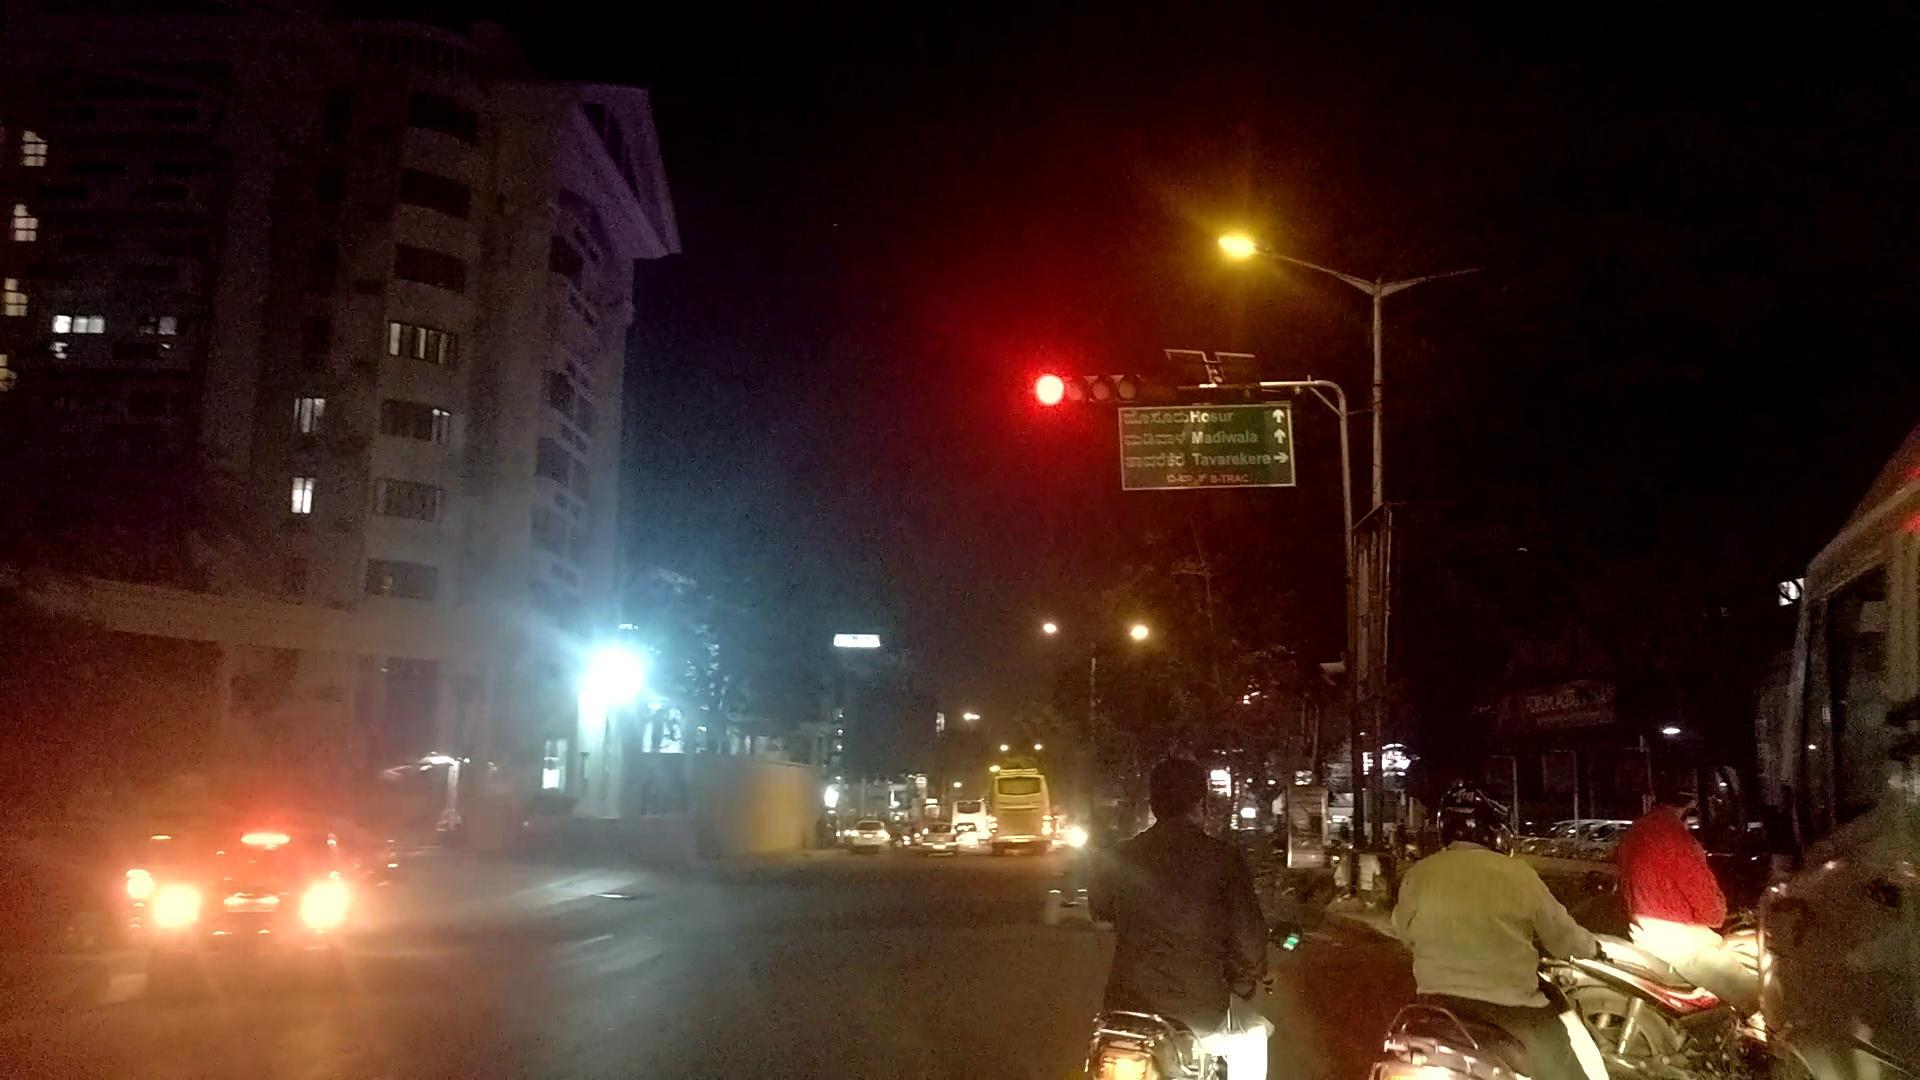on: (1010, 162, 1519, 451)
